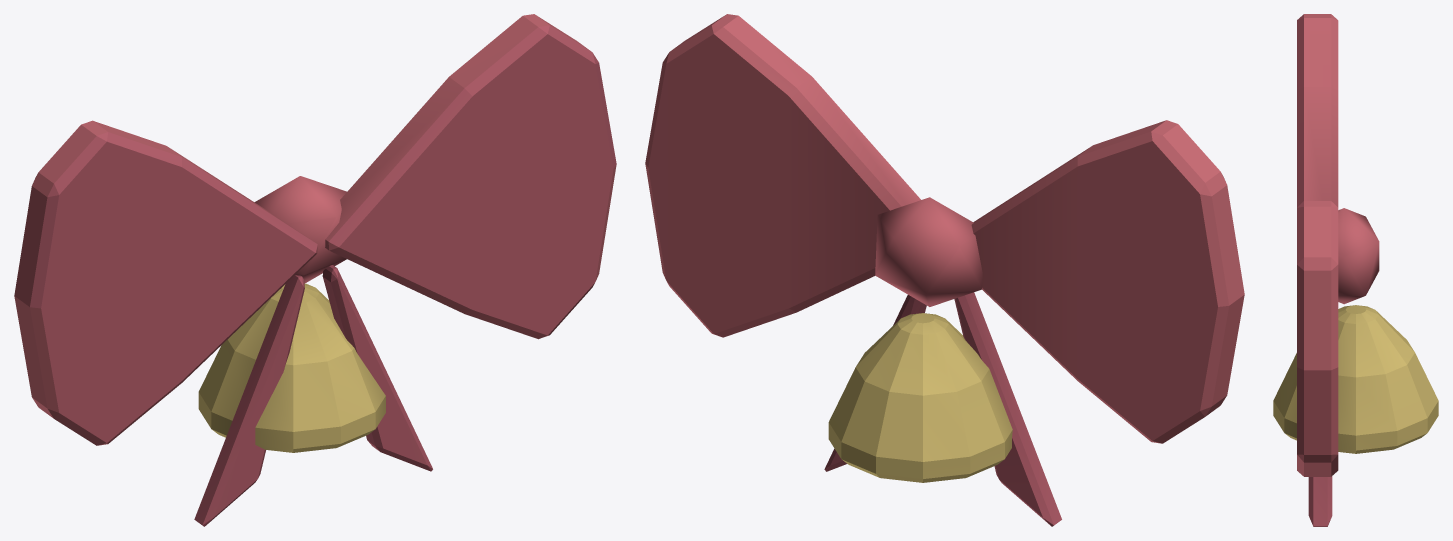
The model's file is resident_bow_bell.glb.
3 renders of one model, left to right at view 1: azimuth 30°, elevation 25°; view 2: azimuth 150°, elevation 25°; view 3: azimuth 270°, elevation 25°, orthographic. The views are drawn at different scales.
Bounding box in the file's own units: 1 × 0.69 × 0.28.
